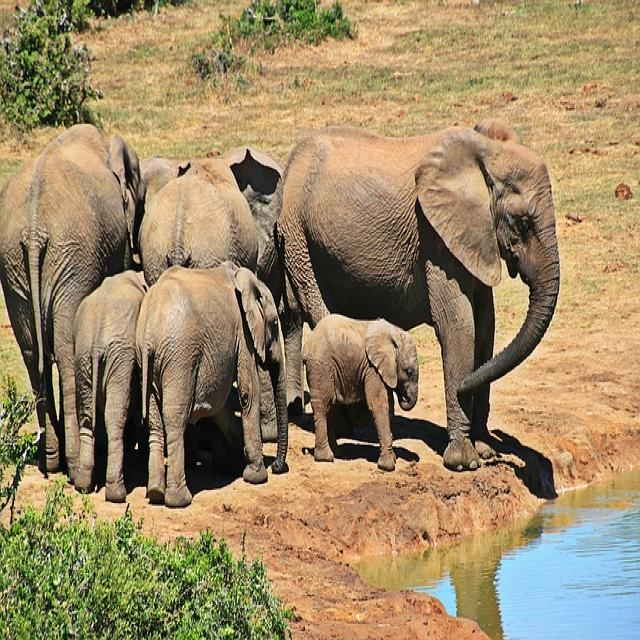elephant: (278, 128, 559, 470), (0, 124, 144, 478), (136, 262, 282, 506), (302, 313, 419, 469), (74, 270, 148, 501), (140, 162, 258, 285)
